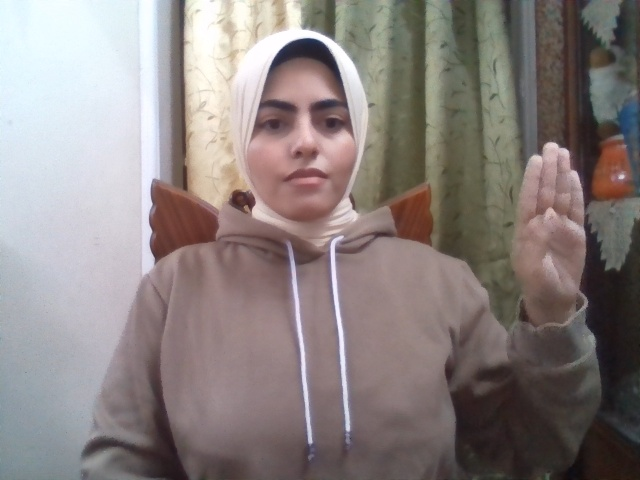B: (511, 143, 587, 305)
